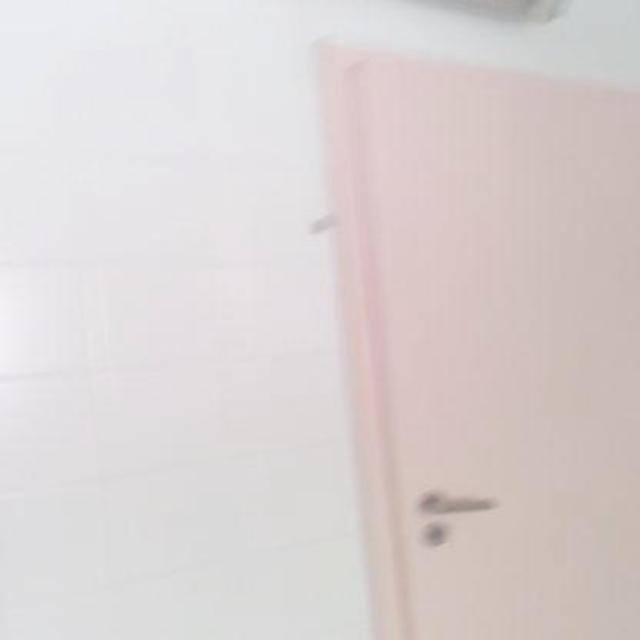door: (312, 37, 638, 639)
